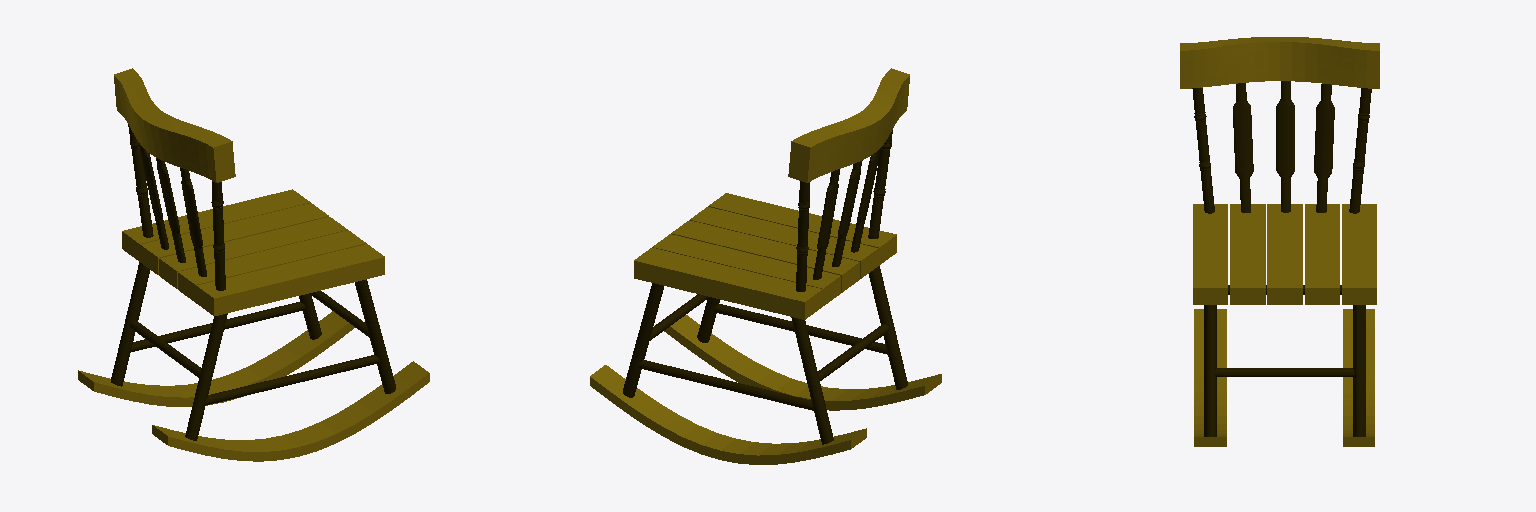
File: Texture_Chair.obj
3 renders of one model, left to right at view 1: azimuth 30°, elevation 25°; view 2: azimuth 150°, elevation 25°; view 3: azimuth 270°, elevation 25°, orthographic.
Parts seen in each view (by area): view 1: pCube9; view 2: pCube9; view 3: pCube9.
Boxes of the visible parts, <box> form: pCube9: <box>78,68,429,461</box>; pCube9: <box>590,68,941,464</box>; pCube9: <box>1180,37,1379,446</box>.
Size of the model in its own units: 3.88 by 4.81 by 2.57.